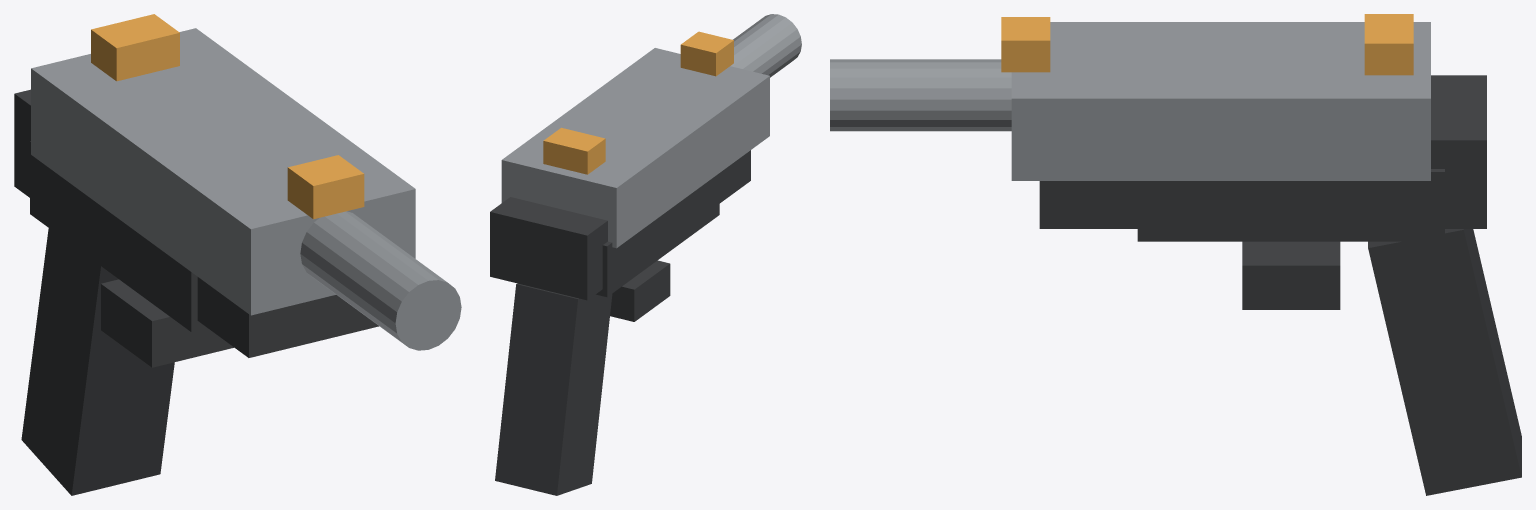
The model's file is wpn_sidearm_01.glb.
3 renders of one model, left to right at view 1: azimuth 30°, elevation 25°; view 2: azimuth 150°, elevation 25°; view 3: azimuth 270°, elevation 25°, orthographic. The views are drawn at different scales.
Visible parts, largest first — view 1: wpn_sidearm_01_lod0_slide, wpn_sidearm_01_lod0_grip, wpn_sidearm_01_lod0_barrel, wpn_sidearm_01_lod0_frame, wpn_sidearm_01_lod1_body, wpn_sidearm_01_lod0_trigger_guard, wpn_sidearm_01_lod0_rear_sight, wpn_sidearm_01_lod0_front_sight; view 2: wpn_sidearm_01_lod0_slide, wpn_sidearm_01_lod0_grip, wpn_sidearm_01_lod1_body, wpn_sidearm_01_lod0_frame, wpn_sidearm_01_lod0_barrel, wpn_sidearm_01_lod0_trigger_guard, wpn_sidearm_01_lod0_rear_sight, wpn_sidearm_01_lod0_front_sight; view 3: wpn_sidearm_01_lod0_slide, wpn_sidearm_01_lod0_grip, wpn_sidearm_01_lod0_frame, wpn_sidearm_01_lod0_barrel, wpn_sidearm_01_lod1_body, wpn_sidearm_01_lod0_trigger_guard, wpn_sidearm_01_lod0_rear_sight, wpn_sidearm_01_lod0_front_sight.
Part boxes in pixels (x1,y1,x2,y2): wpn_sidearm_01_lod0_slide: [31, 28, 415, 315]; wpn_sidearm_01_lod0_grip: [21, 228, 174, 495]; wpn_sidearm_01_lod0_barrel: [300, 211, 461, 350]; wpn_sidearm_01_lod0_frame: [30, 141, 207, 331]; wpn_sidearm_01_lod1_body: [14, 89, 378, 357]; wpn_sidearm_01_lod0_trigger_guard: [101, 279, 233, 367]; wpn_sidearm_01_lod0_rear_sight: [91, 14, 179, 81]; wpn_sidearm_01_lod0_front_sight: [287, 155, 364, 219]; wpn_sidearm_01_lod0_slide: [501, 48, 769, 248]; wpn_sidearm_01_lod0_grip: [495, 283, 612, 495]; wpn_sidearm_01_lod1_body: [490, 150, 750, 300]; wpn_sidearm_01_lod0_frame: [596, 173, 719, 296]; wpn_sidearm_01_lod0_barrel: [730, 14, 801, 77]; wpn_sidearm_01_lod0_trigger_guard: [610, 260, 670, 321]; wpn_sidearm_01_lod0_rear_sight: [543, 127, 605, 174]; wpn_sidearm_01_lod0_front_sight: [680, 31, 733, 76]; wpn_sidearm_01_lod0_slide: [1011, 22, 1430, 180]; wpn_sidearm_01_lod0_grip: [1368, 229, 1521, 495]; wpn_sidearm_01_lod0_frame: [1137, 169, 1444, 241]; wpn_sidearm_01_lod0_barrel: [830, 59, 1011, 131]; wpn_sidearm_01_lod1_body: [1039, 75, 1486, 228]; wpn_sidearm_01_lod0_trigger_guard: [1242, 241, 1340, 309]; wpn_sidearm_01_lod0_rear_sight: [1364, 14, 1413, 75]; wpn_sidearm_01_lod0_front_sight: [1001, 17, 1050, 72].
Size of the model in its own units: 0.13 by 0.3526 by 0.495.
